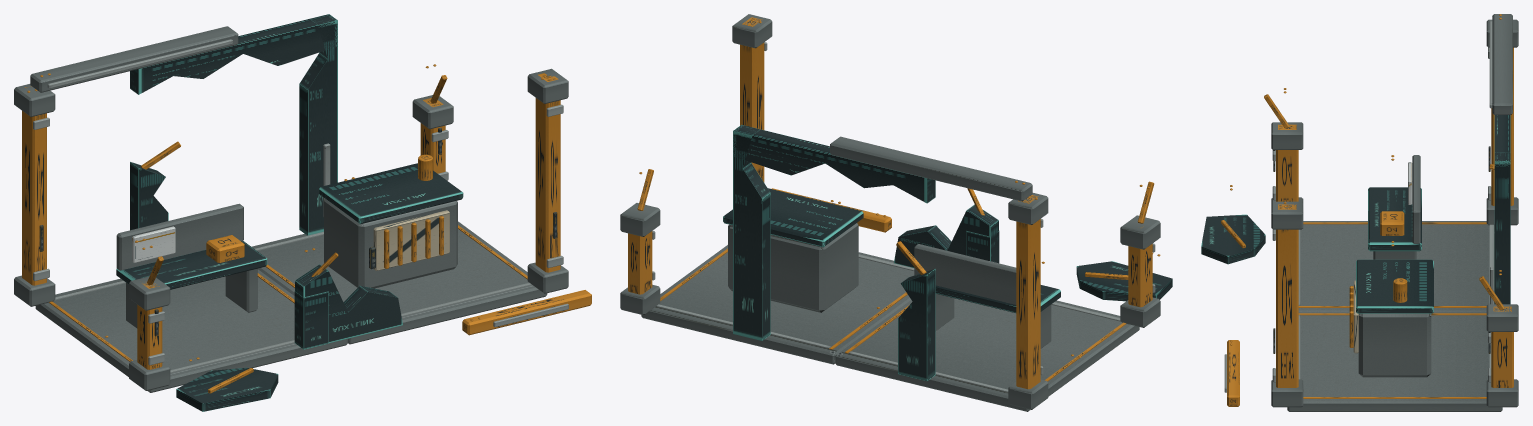
Rendered from WreckWorkshop_LOD0.obj.
3 views of the same model, side by side, from view 1: azimuth 30°, elevation 25°; view 2: azimuth 150°, elevation 25°; view 3: azimuth 270°, elevation 25° (orthographic). The views are drawn at different scales.
Parts seen in each view (by area): view 1: 000_floor_4m.020, 009_generator, 007_wall_breach_4m, 001_floor_4m.012, 008_workbench, 003_column_4m, 004_column_4m, 012_wall_fragment, 006_beam_4m, 002_column_broken, 011_debris_panel, 005_column_broken (+1 smaller); view 2: 007_wall_breach_4m, 000_floor_4m.020, 001_floor_4m.012, 009_generator, 004_column_4m, 008_workbench, 006_beam_4m, 005_column_broken, 002_column_broken, 012_wall_fragment, 003_column_4m, 011_debris_panel (+1 smaller); view 3: 001_floor_4m.012, 000_floor_4m.020, 009_generator, 003_column_4m, 008_workbench, 007_wall_breach_4m, 005_column_broken, 011_debris_panel, 002_column_broken, 006_beam_4m, 004_column_4m, 010_debris_beam.
Part boxes in pixels (left/top/right/bottom): 000_floor_4m.020: left=35, top=269, right=347, bottom=392; 009_generator: left=319, top=154, right=463, bottom=288; 007_wall_breach_4m: left=130, top=14, right=337, bottom=235; 001_floor_4m.012: left=252, top=221, right=547, bottom=344; 008_workbench: left=116, top=203, right=267, bottom=328; 003_column_4m: left=527, top=68, right=568, bottom=293; 004_column_4m: left=14, top=84, right=55, bottom=306; 012_wall_fragment: left=294, top=248, right=402, bottom=349; 006_beam_4m: left=30, top=26, right=238, bottom=92; 002_column_broken: left=129, top=245, right=170, bottom=390; 011_debris_panel: left=176, top=357, right=278, bottom=411; 005_column_broken: left=412, top=64, right=453, bottom=180; 007_wall_breach_4m: left=733, top=124, right=935, bottom=381; 000_floor_4m.020: left=835, top=298, right=1139, bottom=411; 001_floor_4m.012: left=641, top=245, right=914, bottom=364; 009_generator: left=723, top=188, right=863, bottom=312; 004_column_4m: left=1008, top=193, right=1048, bottom=409; 008_workbench: left=914, top=244, right=1060, bottom=348; 006_beam_4m: left=830, top=136, right=1032, bottom=201; 005_column_broken: left=620, top=169, right=660, bottom=315; 002_column_broken: left=1120, top=181, right=1160, bottom=327; 012_wall_fragment: left=894, top=188, right=999, bottom=267; 003_column_4m: left=732, top=14, right=772, bottom=182; 011_debris_panel: left=1076, top=253, right=1172, bottom=301; 001_floor_4m.012: left=1287, top=312, right=1502, bottom=411; 000_floor_4m.020: left=1298, top=221, right=1494, bottom=311; 009_generator: left=1349, top=241, right=1433, bottom=377; 003_column_4m: left=1271, top=201, right=1303, bottom=407; 008_workbench: left=1368, top=155, right=1421, bottom=259; 007_wall_breach_4m: left=1489, top=115, right=1510, bottom=304; 005_column_broken: left=1479, top=270, right=1518, bottom=407; 011_debris_panel: left=1201, top=185, right=1265, bottom=264; 002_column_broken: left=1264, top=88, right=1303, bottom=202; 006_beam_4m: left=1489, top=14, right=1512, bottom=114; 004_column_4m: left=1486, top=19, right=1518, bottom=225; 010_debris_beam: left=1224, top=340, right=1239, bottom=406.
Size of the model in its own units: 8.52 by 4.49 by 5.9.
Materials: 1 (1 with a texture image).
